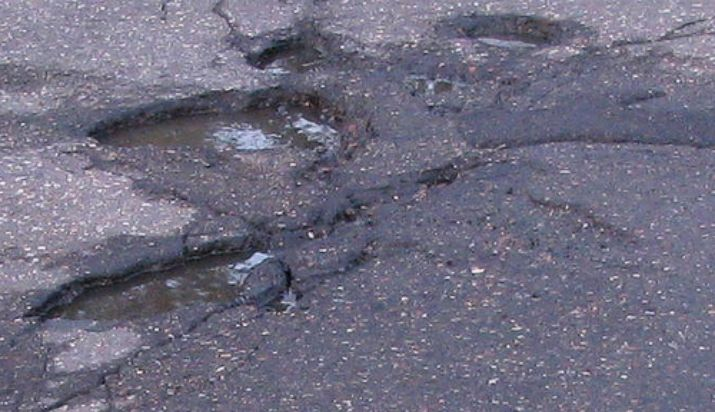pothole: (25, 234, 300, 333), (85, 84, 349, 167)
